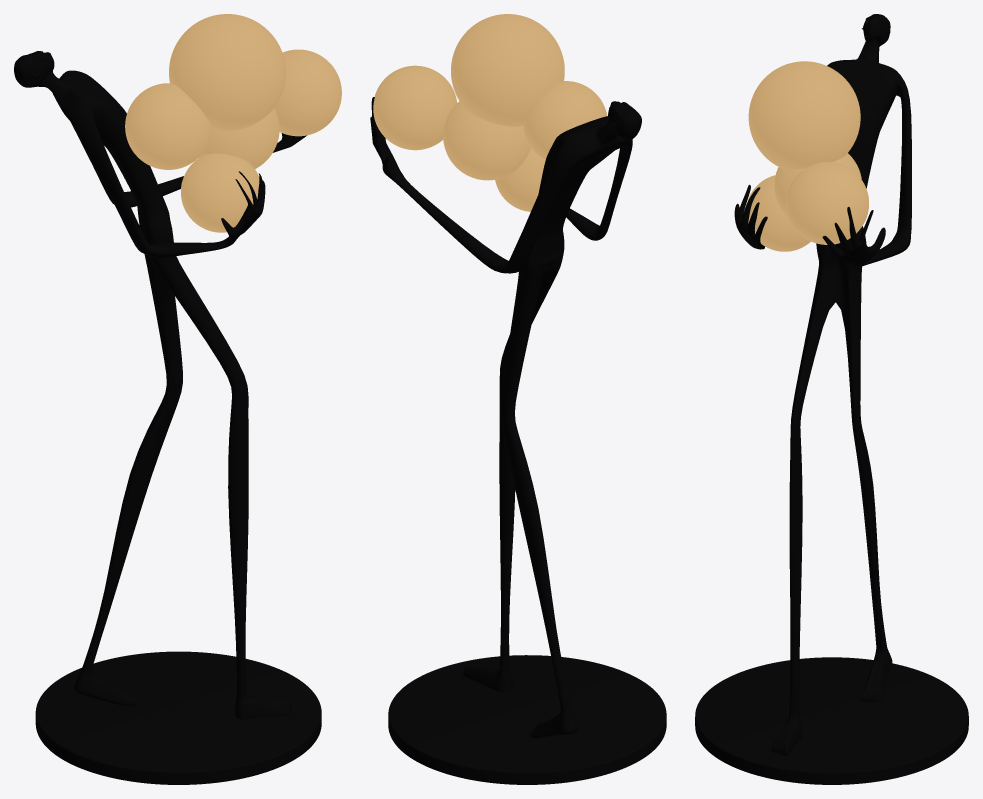
The picture shows the model from 3 angles, left to right: view 1: azimuth 30°, elevation 25°; view 2: azimuth 150°, elevation 25°; view 3: azimuth 270°, elevation 25°; orthographic projection. The views are drawn at different scales.
Visible parts, largest first — view 1: Group032; view 2: Group032; view 3: Group032.
Boxes of the visible parts, bbox=[...] form: Group032: bbox=[14, 14, 341, 784]; Group032: bbox=[370, 14, 666, 784]; Group032: bbox=[695, 14, 968, 784].
Bounding box in the file's own units: 708 × 1616 × 592.
